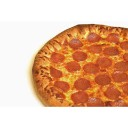pepperonipizza: (33, 24, 128, 106)
